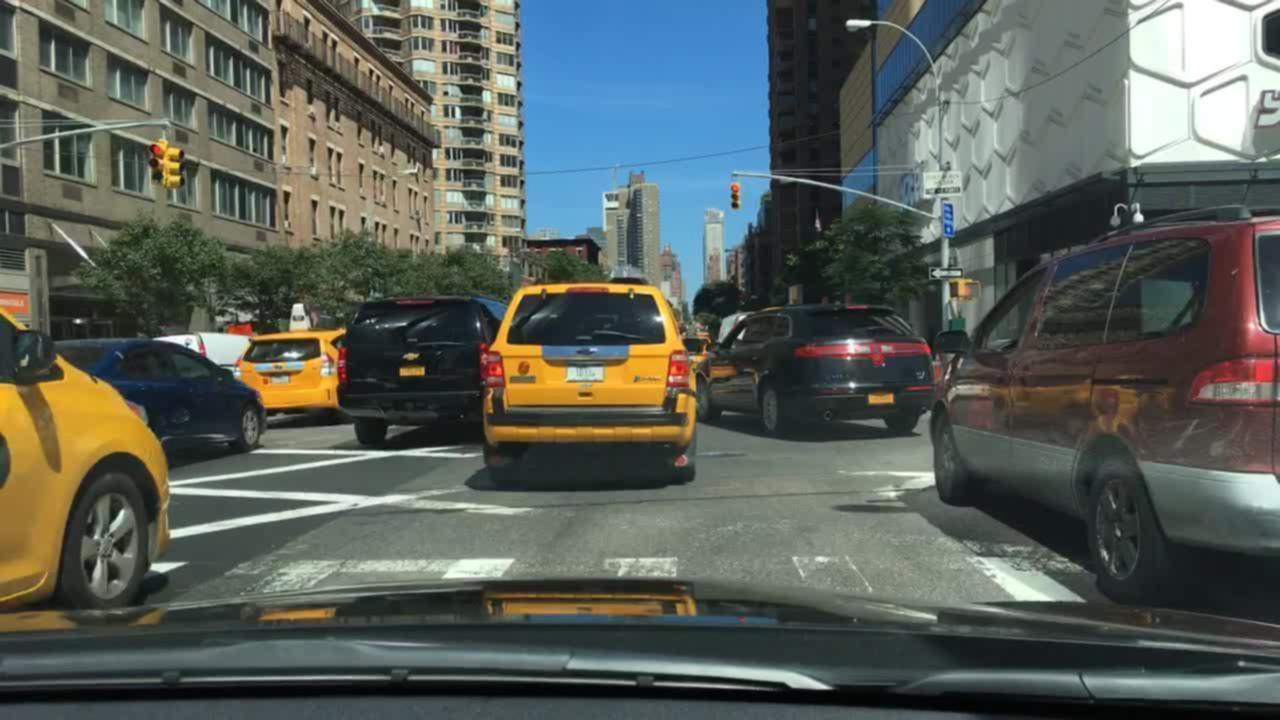chevrolet: (396, 349, 425, 364)
lincoln: (872, 335, 883, 372)
